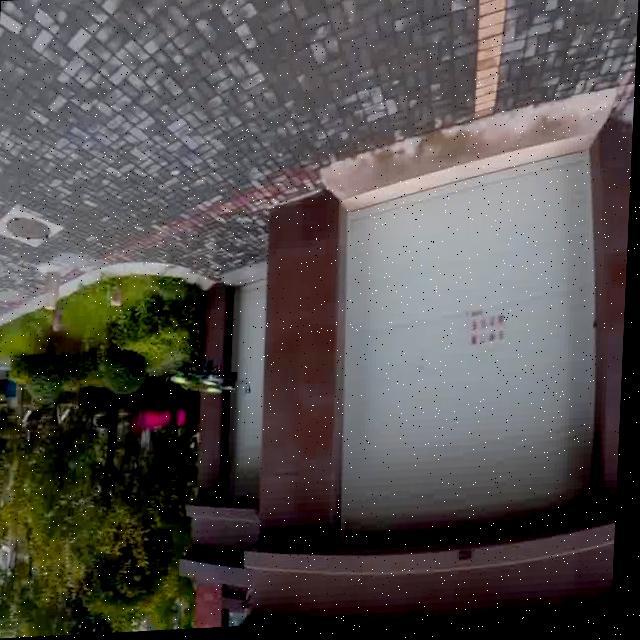drone: (172, 360, 259, 405)
